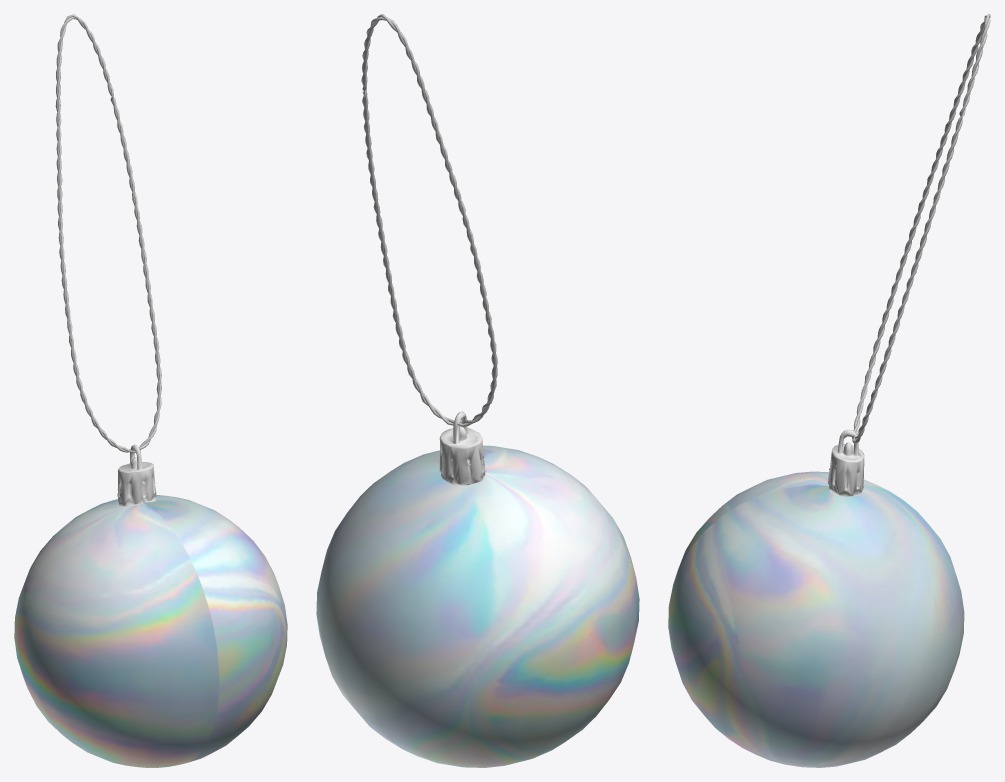
File: Iridescent_Ball_S.glb
The picture shows the model from 3 angles, left to right: view 1: azimuth 30°, elevation 25°; view 2: azimuth 150°, elevation 25°; view 3: azimuth 270°, elevation 25°; orthographic projection. The views are drawn at different scales.
Visible parts, largest first — view 1: Sphere, GN Instance; view 2: Sphere, GN Instance; view 3: Sphere, GN Instance.
Part boxes in pixels (<box>): Sphere: <box>14,444,287,767</box>; GN Instance: <box>55,14,161,452</box>; Sphere: <box>316,411,639,767</box>; GN Instance: <box>361,14,497,426</box>; Sphere: <box>668,429,964,767</box>; GN Instance: <box>852,14,990,443</box>.
Bounding box in the file's own units: 0.0369 × 0.1017 × 0.0402.
3 materials, 1 textured.
